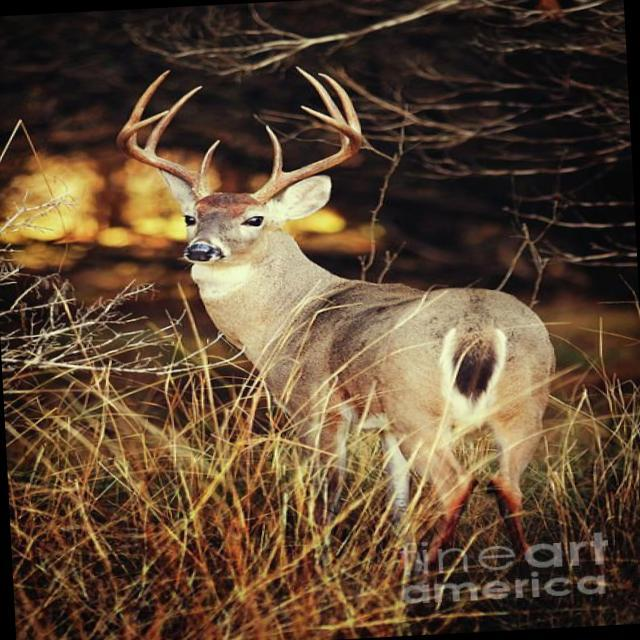L-F: (252, 105, 365, 202)
L-G1: (265, 125, 285, 181)
R-F: (116, 109, 209, 200)
R-G1: (197, 139, 220, 181)
